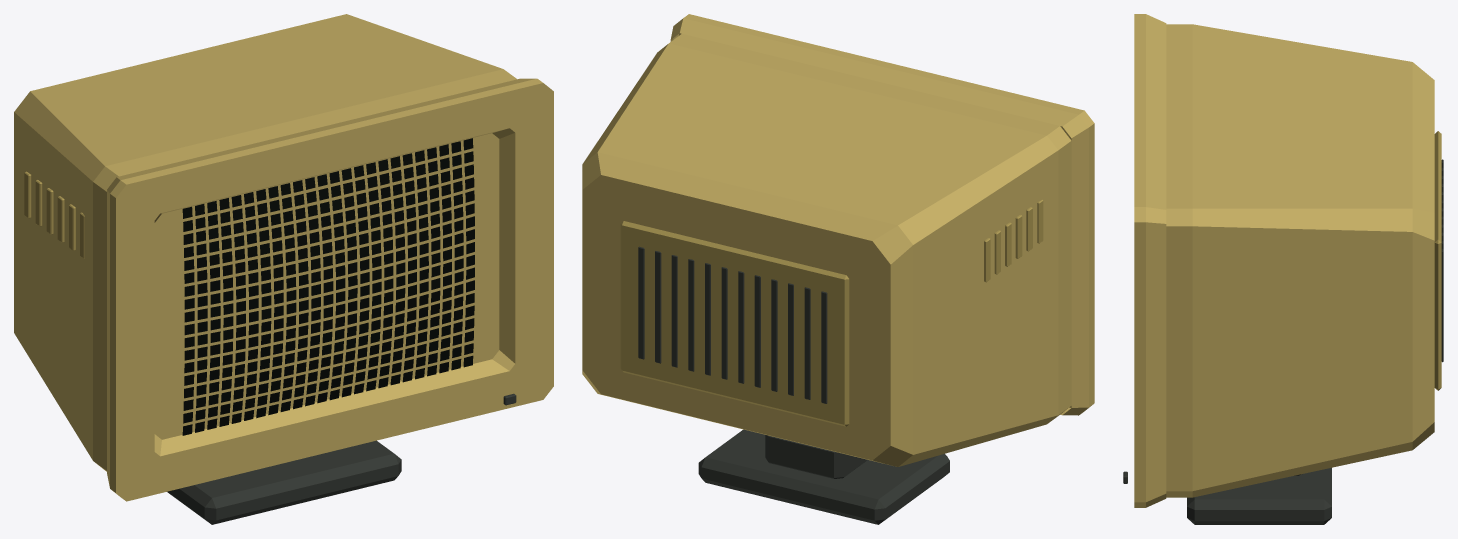
The model's file is monitor_sem_rosto.glb.
The picture shows the model from 3 angles, left to right: view 1: azimuth 30°, elevation 25°; view 2: azimuth 150°, elevation 25°; view 3: azimuth 270°, elevation 25°; orthographic projection. The views are drawn at different scales.
Visible parts, largest first — view 1: Gabinete CRT profundo, Moldura unificada, Grade discreta apagada, Base curta chanfrada; view 2: Gabinete CRT profundo, Respiros painel traseiro, Moldura unificada, Base curta chanfrada, Haste curta, Ranhura ventilacao.003, Ranhura ventilacao.006, Ranhura ventilacao.009, Ranhura ventilacao.011, Ranhura ventilacao, Ranhura ventilacao.001, Ranhura ventilacao.004 (+5 smaller); view 3: Gabinete CRT profundo, Moldura unificada, Base curta chanfrada, Respiros painel traseiro.
Part boxes in pixels (<box>): Gabinete CRT profundo: <box>14,14,516,471</box>; Moldura unificada: <box>107,78,553,501</box>; Grade discreta apagada: <box>182,138,474,435</box>; Base curta chanfrada: <box>167,440,401,524</box>; Gabinete CRT profundo: <box>582,34,1071,466</box>; Respiros painel traseiro: <box>620,221,849,426</box>; Moldura unificada: <box>670,14,1094,415</box>; Base curta chanfrada: <box>698,429,949,524</box>; Haste curta: <box>765,435,867,478</box>; Ranhura ventilacao.003: <box>771,279,777,391</box>; Ranhura ventilacao.006: <box>721,267,727,379</box>; Ranhura ventilacao.009: <box>671,255,677,367</box>; Ranhura ventilacao.011: <box>638,246,644,359</box>; Ranhura ventilacao: <box>821,291,827,403</box>; Ranhura ventilacao.001: <box>804,287,810,399</box>; Ranhura ventilacao.004: <box>754,275,760,387</box>; Gabinete CRT profundo: <box>1166,24,1434,497</box>; Moldura unificada: <box>1134,14,1166,507</box>; Base curta chanfrada: <box>1187,467,1331,524</box>; Respiros painel traseiro: <box>1434,131,1441,390</box>.
Size of the model in its own units: 0.545 by 0.4665 by 0.3635.
